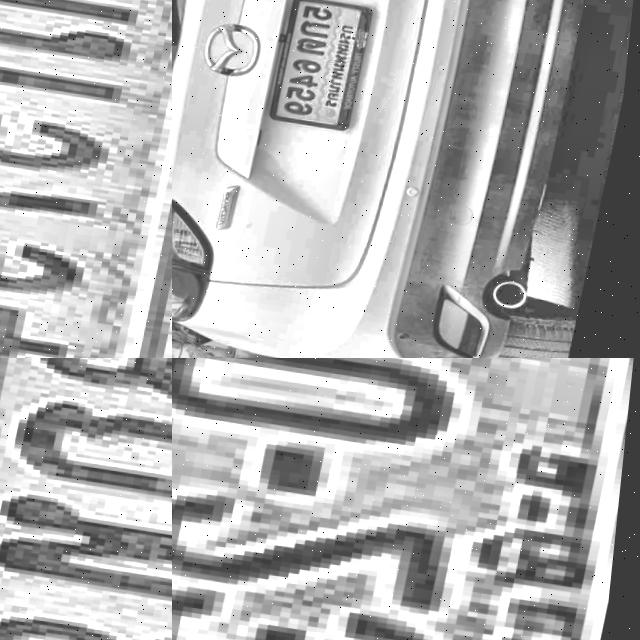license-plate: (172, 358, 640, 640), (0, 0, 172, 358), (0, 358, 172, 640), (271, 0, 384, 129)
